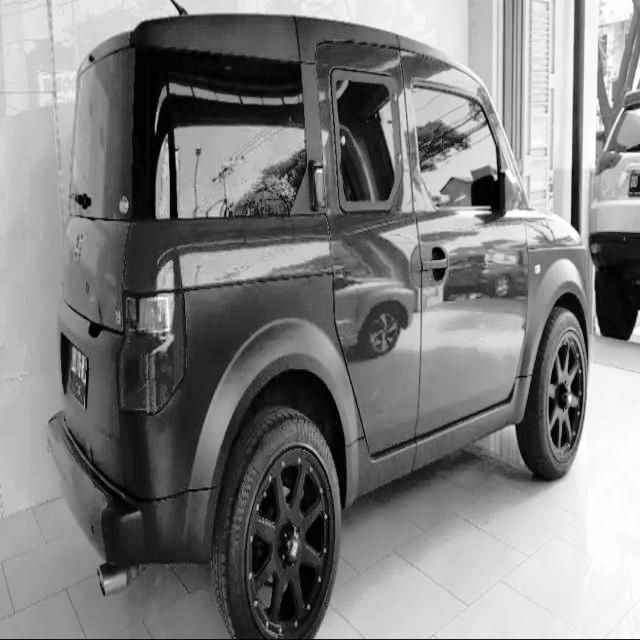Car: (42, 1, 618, 640), (581, 78, 640, 340)
